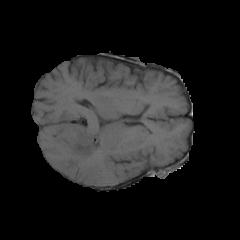glioma: (61, 127, 114, 158)
